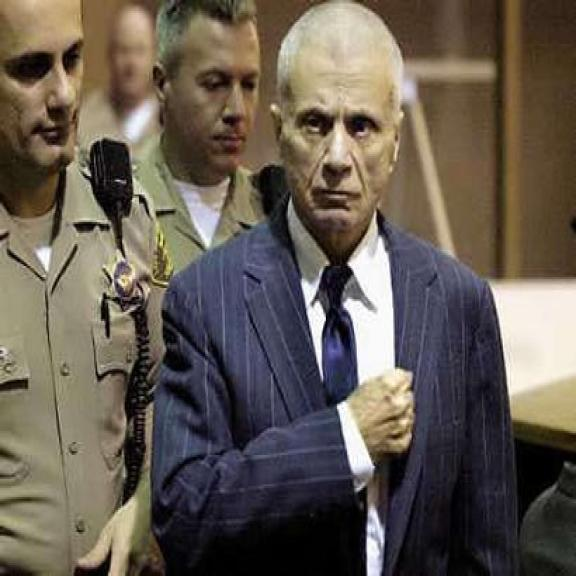face: (269, 51, 405, 248), (148, 20, 260, 181), (0, 0, 86, 178), (110, 17, 158, 99)
